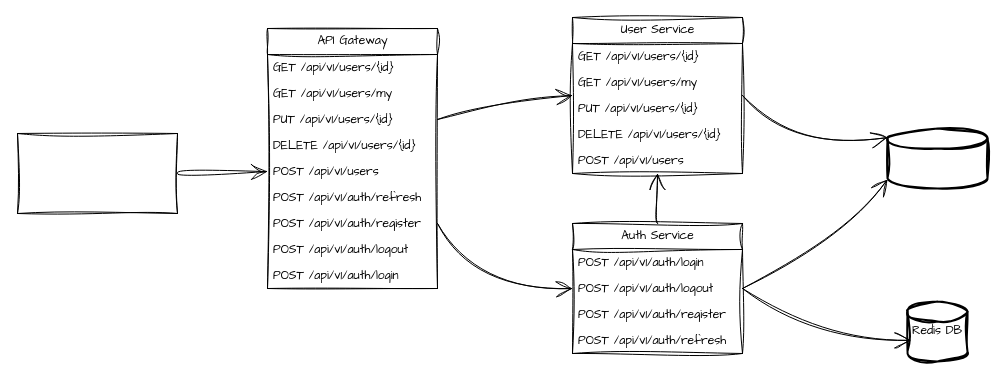
Image size: 1006x380. Some labels were removed from this diagram. The centre of each missing label's shape, as x and y in pixels:
"Client" belongs at point 97,173.
"Postgres DB" belongs at point 937,158.
